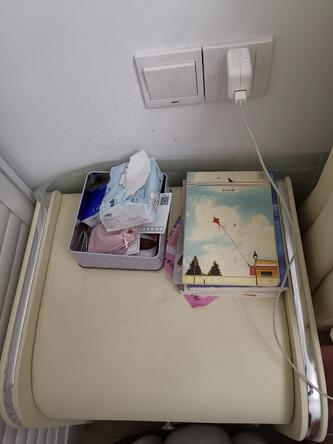switch: (144, 68, 205, 102)
